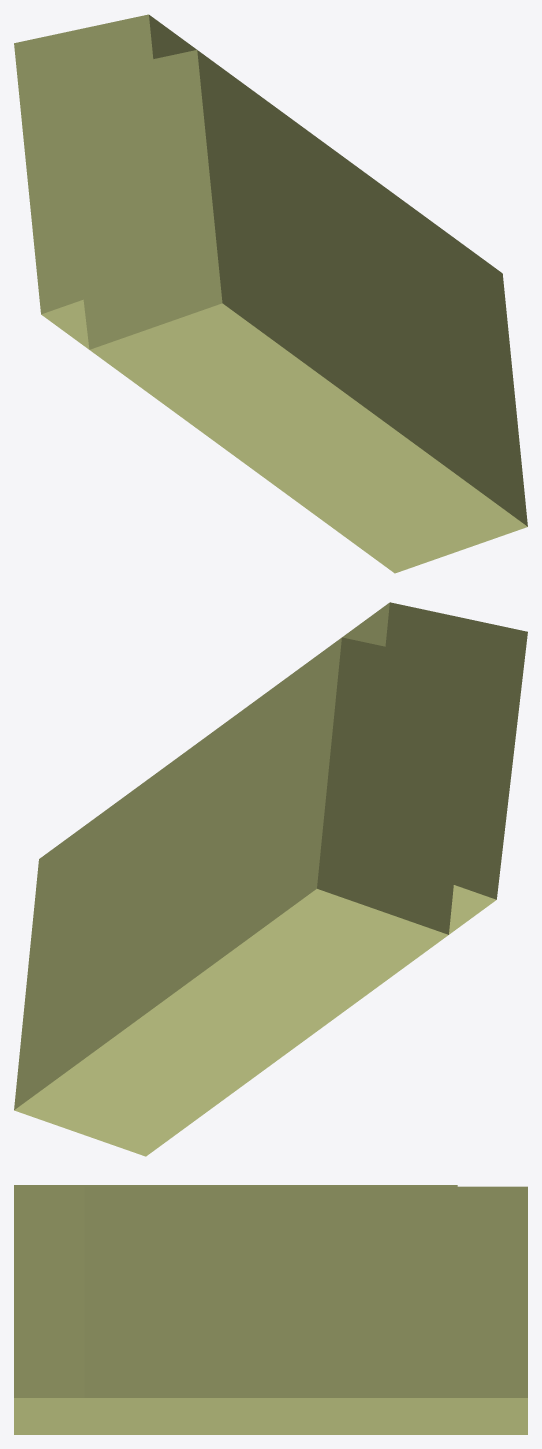
3 views of the same model, one above another, from view 1: azimuth 30°, elevation 25°; view 2: azimuth 150°, elevation 25°; view 3: azimuth 270°, elevation 25° (orthographic). The views are drawn at different scales.
Visible parts, largest first — view 1: 0_2_3_3_3_0_2_0_2_3_3_3; view 2: 0_2_3_3_3_0_2_0_2_3_3_3; view 3: 0_2_3_3_3_0_2_0_2_3_3_3.
Part boxes in pixels (x1,y1,x2,y2): 0_2_3_3_3_0_2_0_2_3_3_3: (14, 14, 527, 573); 0_2_3_3_3_0_2_0_2_3_3_3: (14, 602, 527, 1156); 0_2_3_3_3_0_2_0_2_3_3_3: (14, 1185, 527, 1434).
Bounding box in the file's own units: 1.87 × 3.01 × 6.95.
